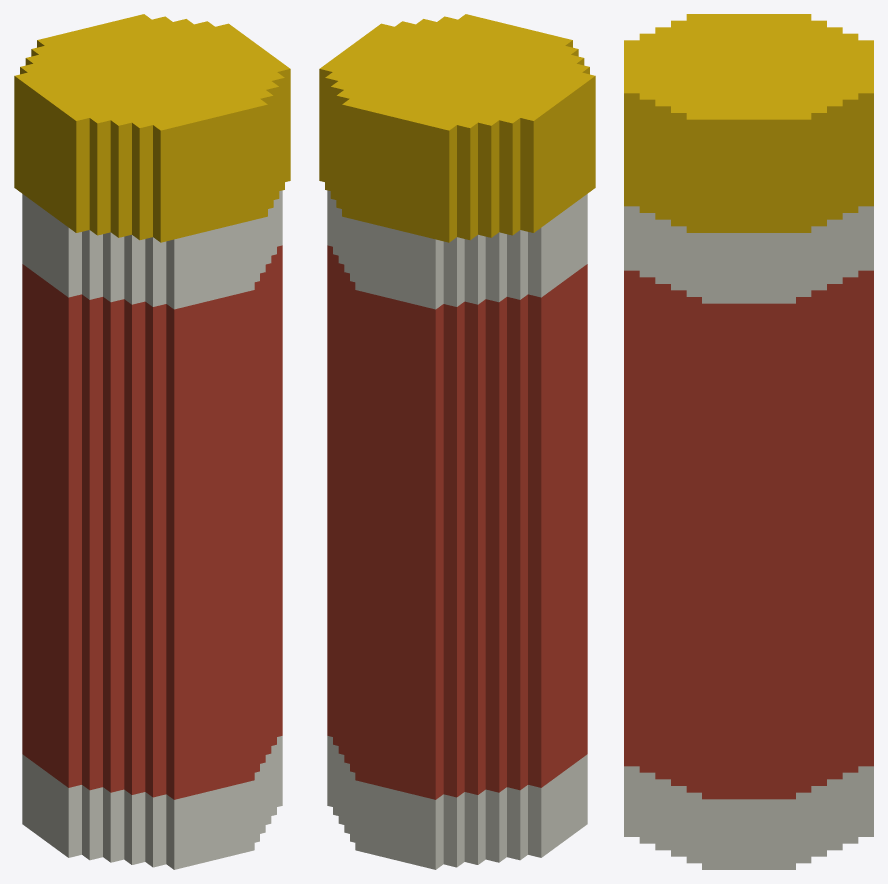
Rendered from vitamin_c.glb.
The picture shows the model from 3 angles, left to right: view 1: azimuth 30°, elevation 25°; view 2: azimuth 150°, elevation 25°; view 3: azimuth 270°, elevation 25°; orthographic projection.
Parts seen in each view (by area): view 1: vitamin_c:compound; view 2: vitamin_c:compound; view 3: vitamin_c:compound.
Part boxes in pixels (x1,y1,x2,y2): vitamin_c:compound: (14, 14, 290, 869); vitamin_c:compound: (319, 14, 595, 869); vitamin_c:compound: (624, 14, 873, 869).
Size of the model in its own units: 0.032 by 0.106 by 0.032.
